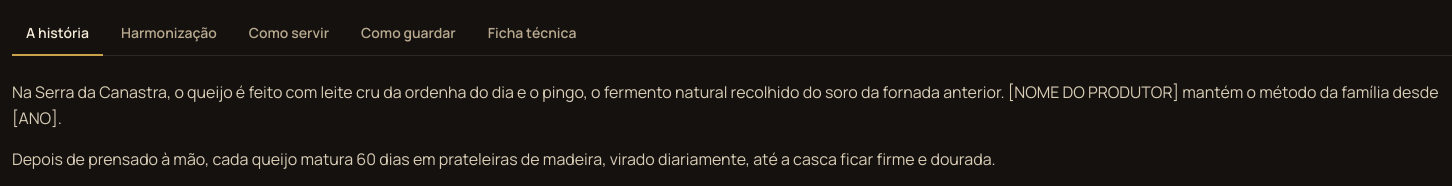
Test case: ProductTabs › o clique troca de aba e mostra "Como servir"
Click the tab "Como servir" at (289, 34), box [235,12,343,56]
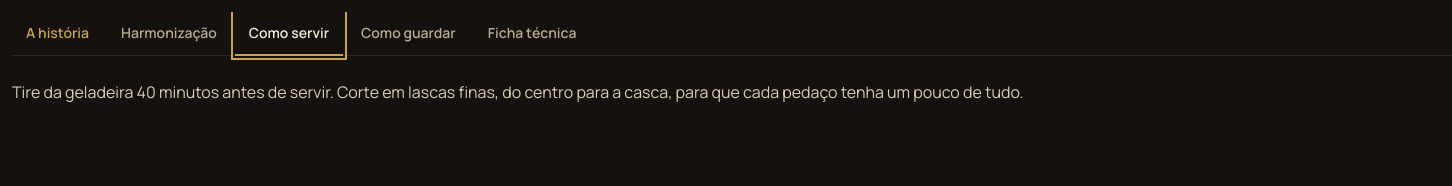
Check: the panel named "Como servir" shows "Tire da geladeira 40 minutos antes de servir.", box [12,81,1024,103]
